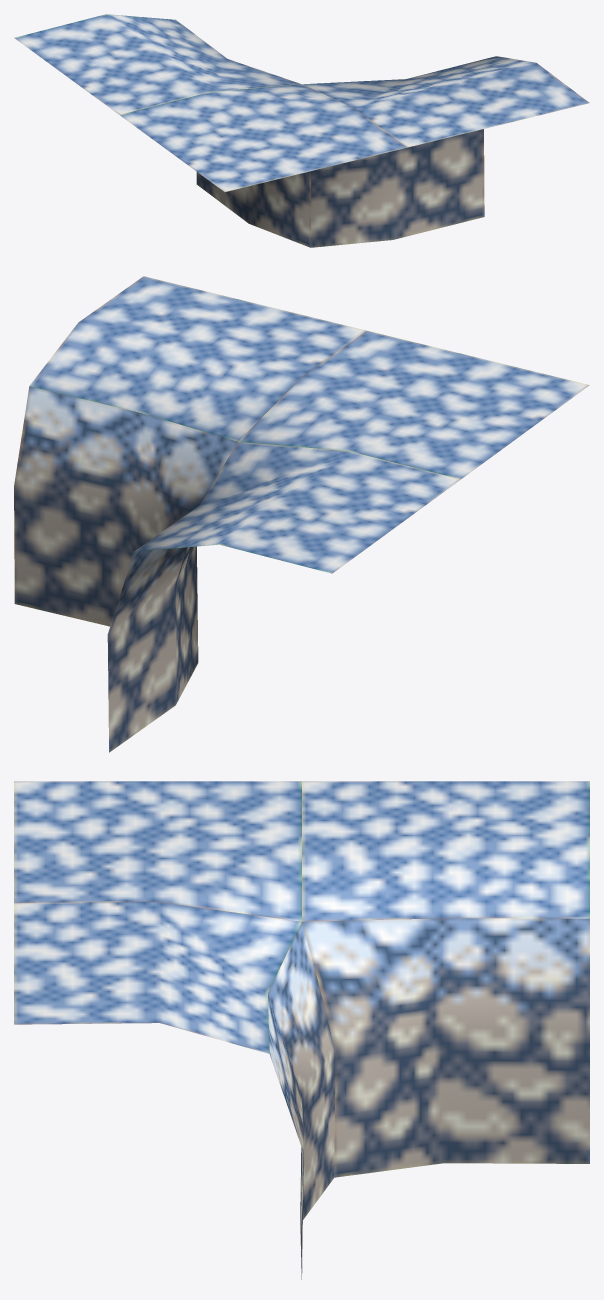
Rendered from snowCTile_innerCorner_lowerLeft.fbx.
The picture shows the model from 3 angles, top to bottom: view 1: azimuth 30°, elevation 25°; view 2: azimuth 150°, elevation 25°; view 3: azimuth 270°, elevation 25°; orthographic projection. The views are drawn at different scales.
Parts seen in each view (by area): view 1: snowCTile_innerCorner_lowerLeft; view 2: snowCTile_innerCorner_lowerLeft; view 3: snowCTile_innerCorner_lowerLeft.
Boxes of the visible parts, x1=… form: snowCTile_innerCorner_lowerLeft: x1=14, y1=14, x2=589, y2=247; snowCTile_innerCorner_lowerLeft: x1=14, y1=276, x2=589, y2=752; snowCTile_innerCorner_lowerLeft: x1=14, y1=781, x2=589, y2=1279.
Size of the model in its own units: 2 by 1.01 by 2.
